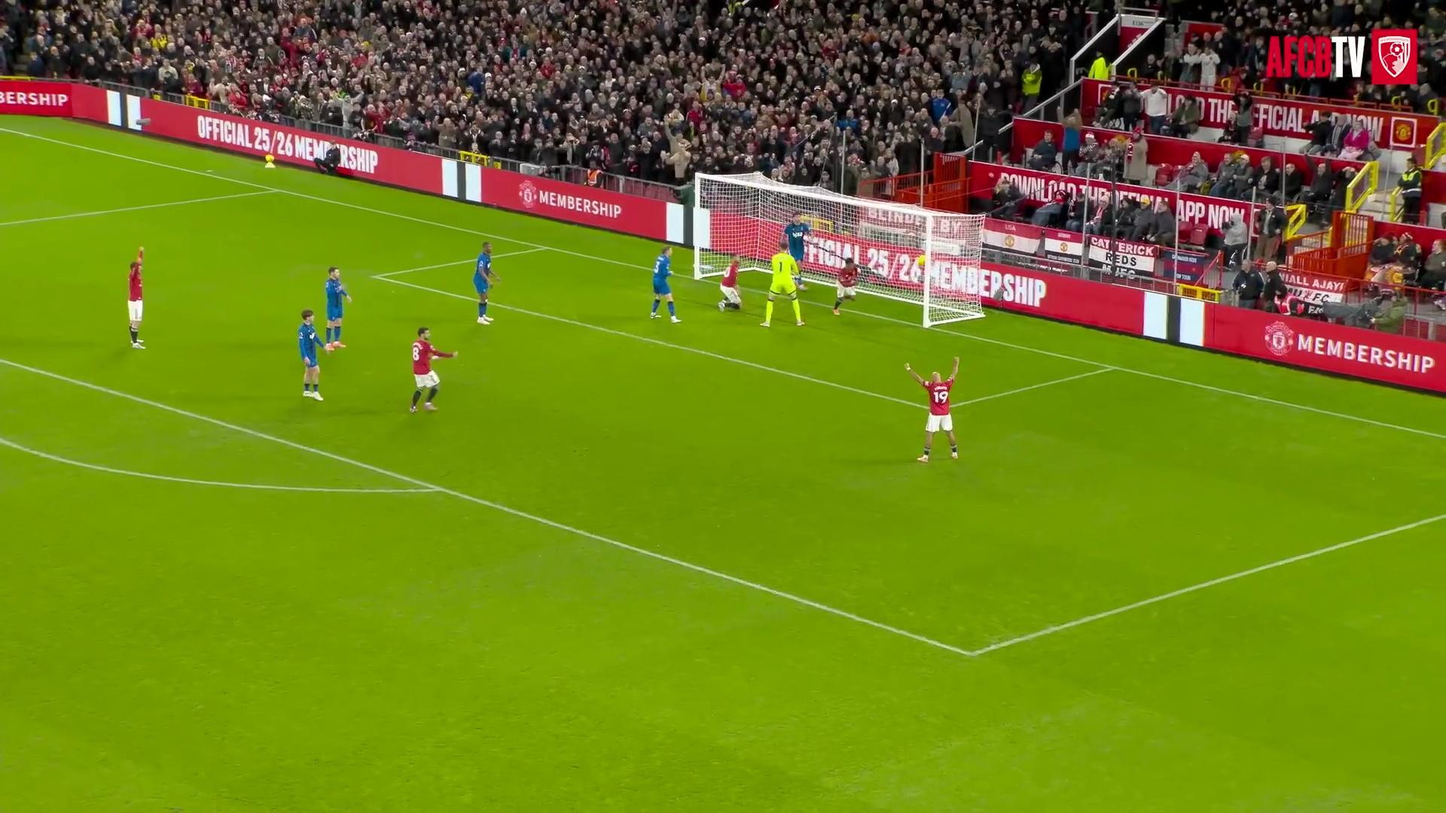football: (915, 255, 934, 272)
player: (906, 357, 958, 462), (410, 328, 457, 412), (761, 241, 804, 327), (297, 309, 331, 400), (651, 246, 680, 323), (783, 212, 810, 289), (325, 266, 350, 349), (473, 242, 498, 324), (128, 247, 143, 349), (833, 259, 858, 315), (718, 260, 740, 310)
